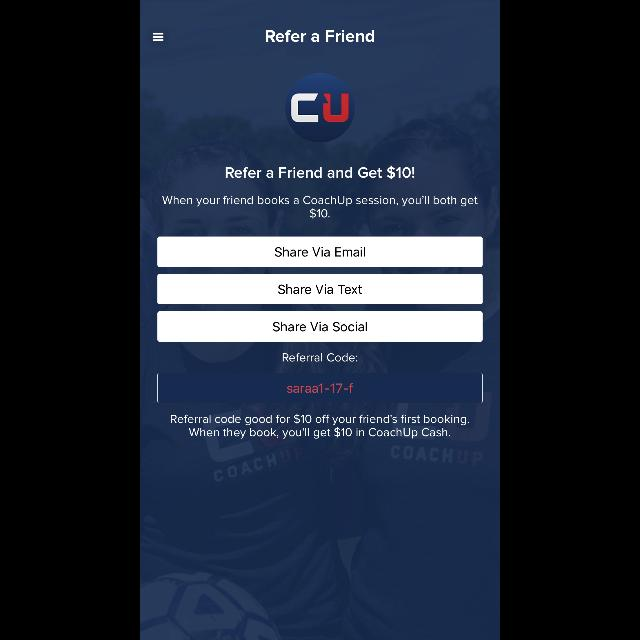backgroundimage: (140, 1, 500, 640)
icon: (152, 32, 164, 42)
image: (286, 73, 354, 143)
text: (171, 414, 469, 438), (162, 196, 478, 218), (226, 166, 414, 180), (266, 30, 374, 42), (282, 352, 358, 362), (287, 382, 353, 393)
textbutton: (158, 237, 482, 267), (158, 274, 482, 304), (158, 312, 482, 342)
